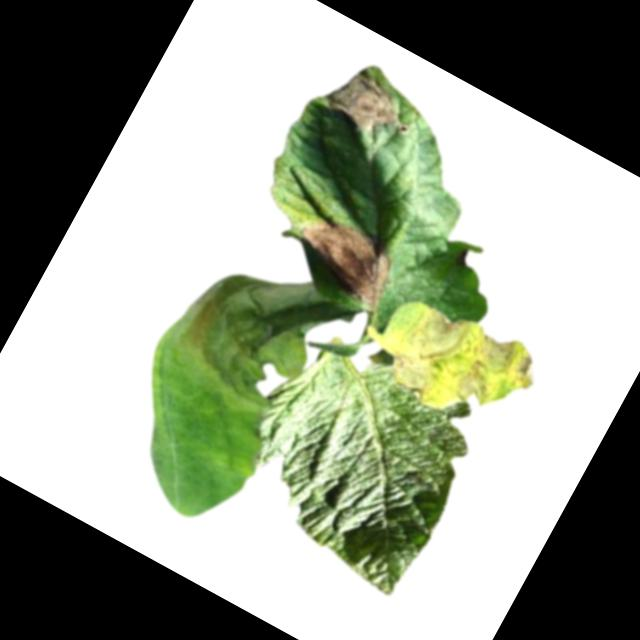Late_blight: (160, 236, 359, 421), (361, 282, 548, 446), (280, 200, 412, 316), (318, 58, 413, 144)
healthy: (208, 318, 494, 600)
